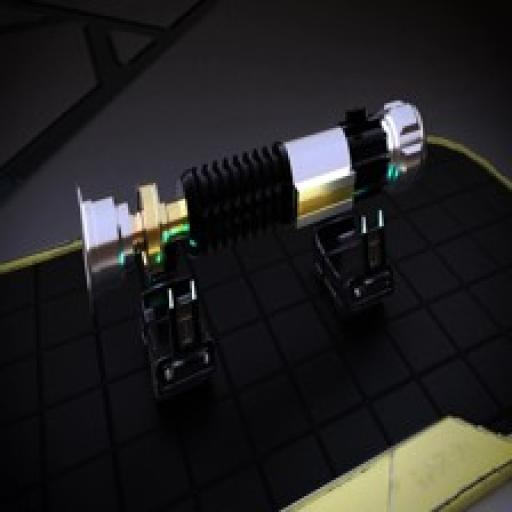lightsaber: (74, 98, 426, 302)
